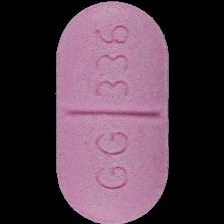0781-5185: (0, 0, 224, 224)
